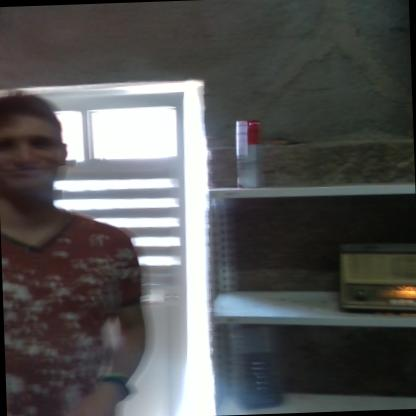closed: (1, 67, 227, 416)
